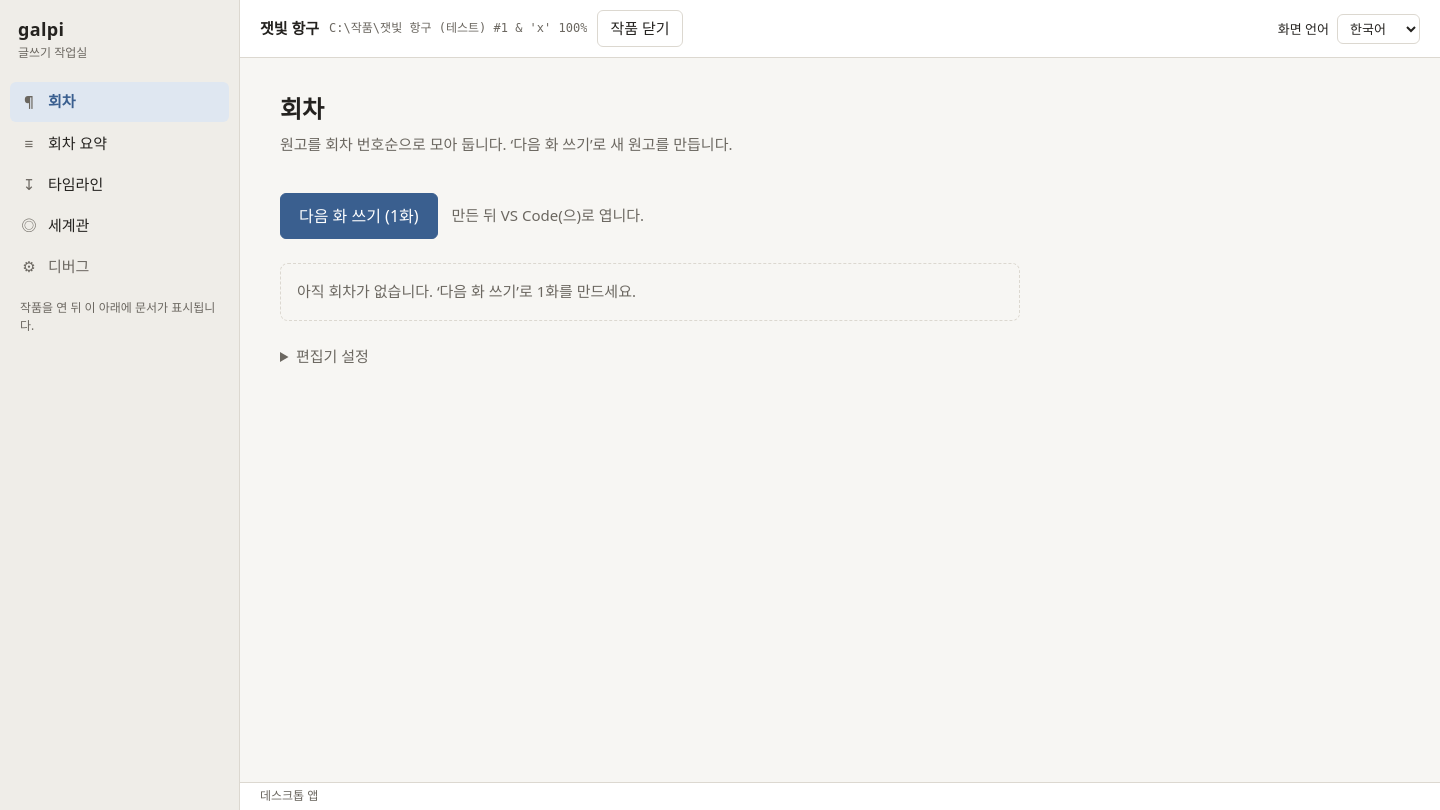
Test: episodes › 1·2·3화 are listed in order
Expected: the text "잿빛 항구" is shown, [260,17,319,40]
Click the button "다음 화 쓰기 (1화)" at (359, 216), box [280,193,438,240]
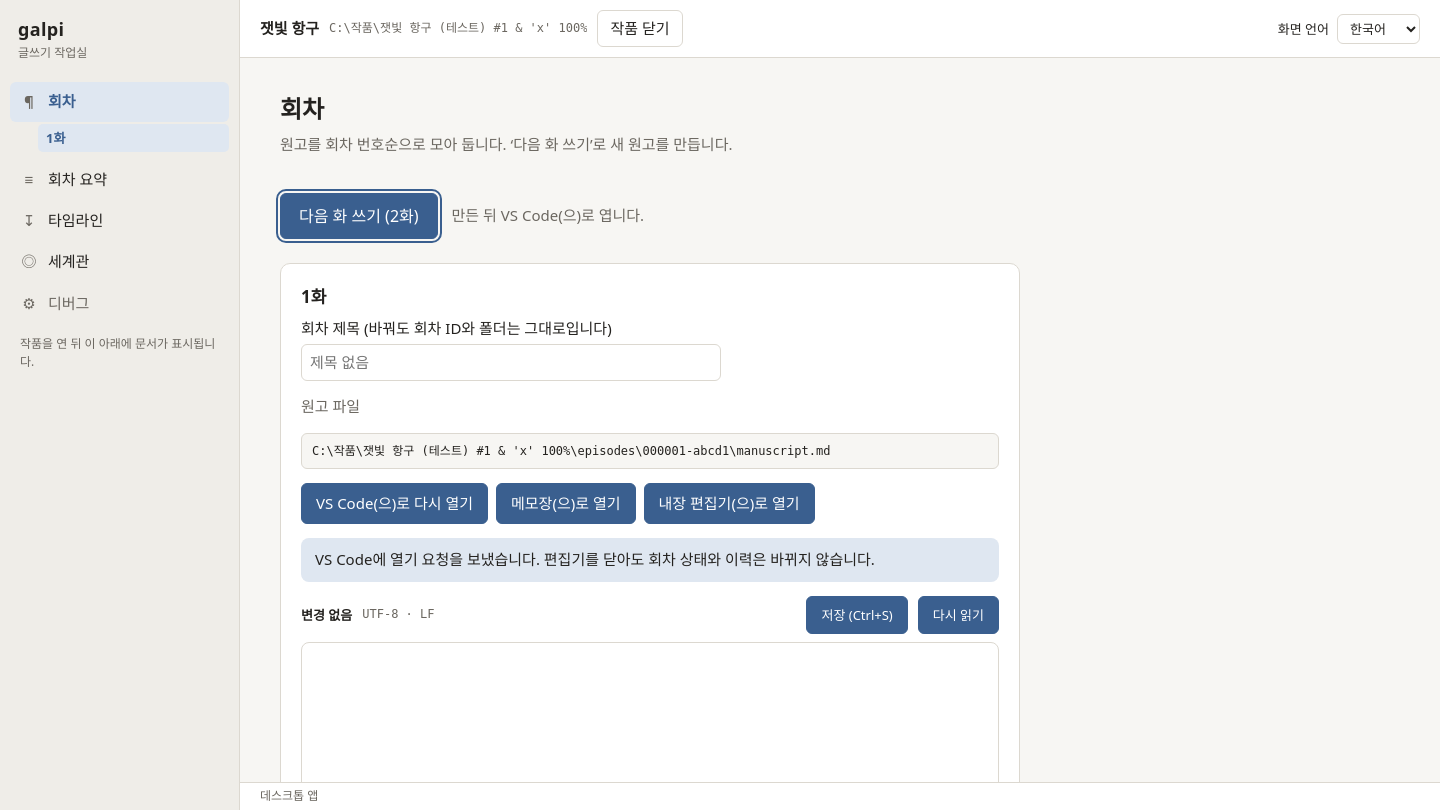
Click the button "다음 화 쓰기 (2화)" at (359, 216), box [280,193,438,240]
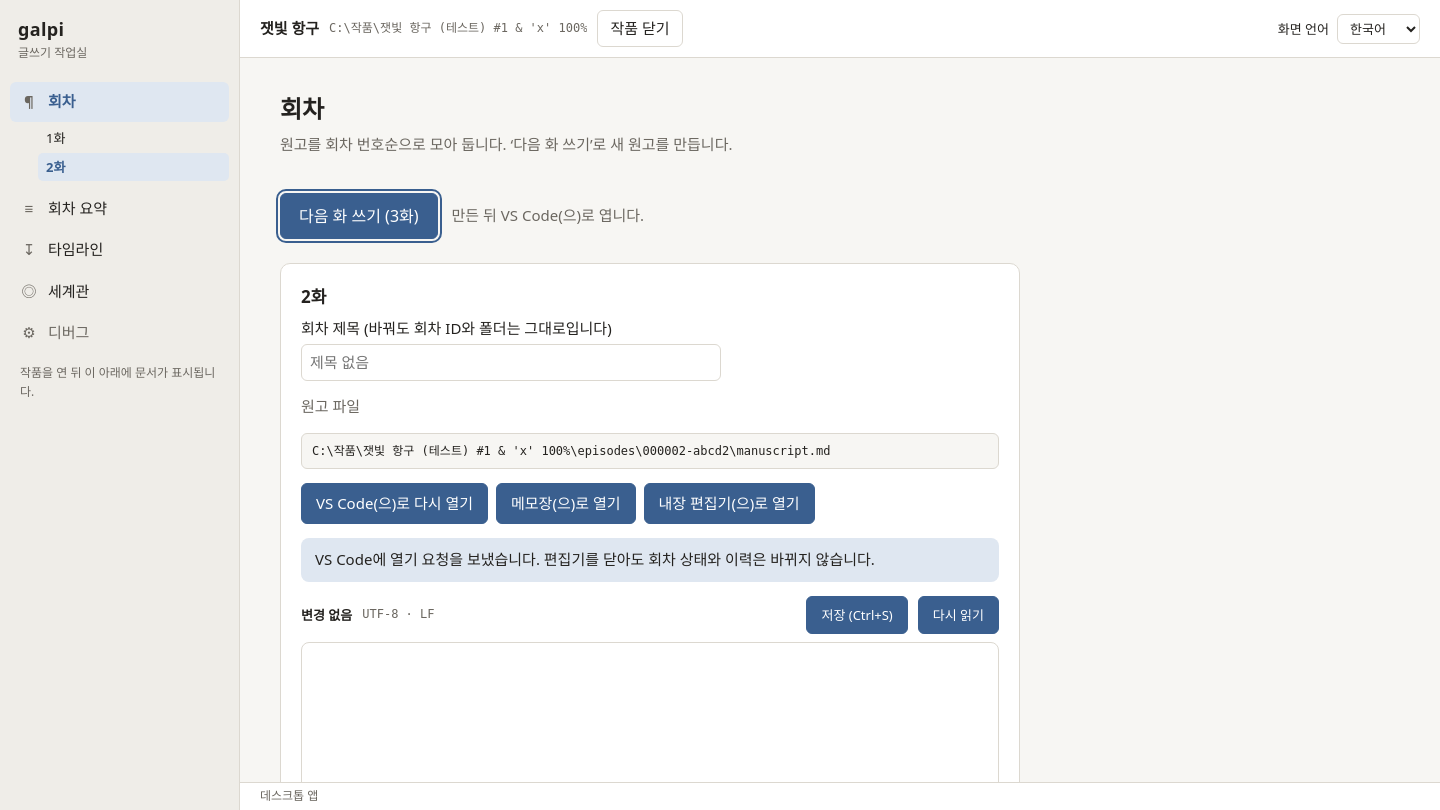
Click the button "다음 화 쓰기 (3화)" at (359, 216), box [280,193,438,240]
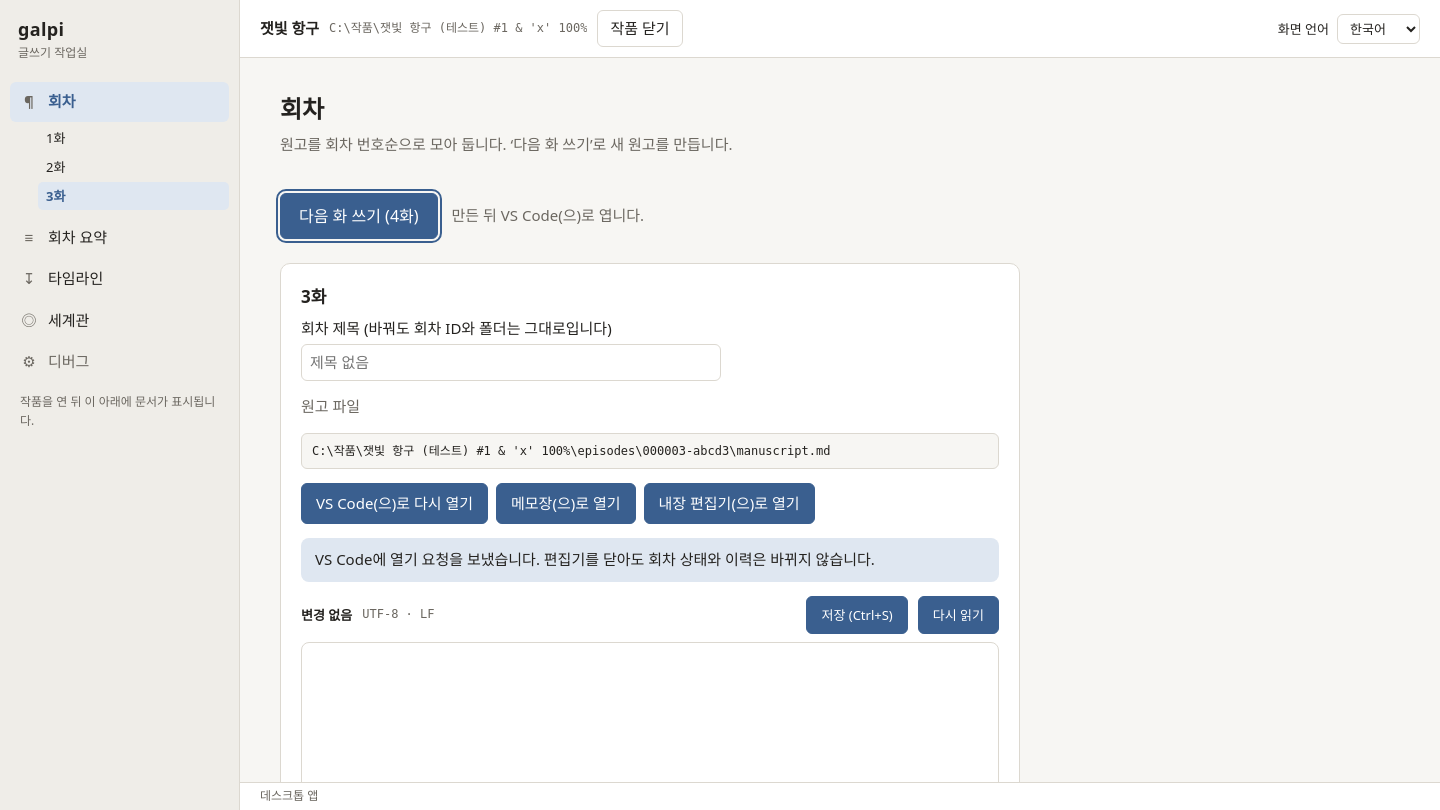
Expected: the button "다음 화 쓰기 (4화)" is shown, [280,193,438,240]
